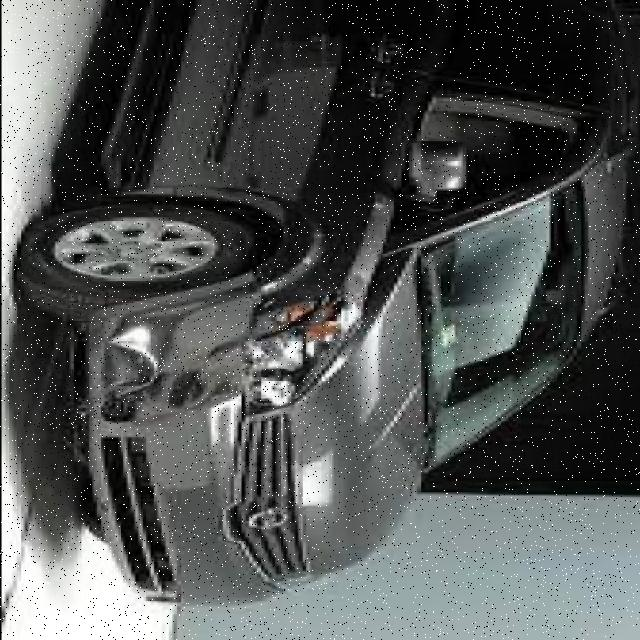damage: (104, 307, 245, 426)
